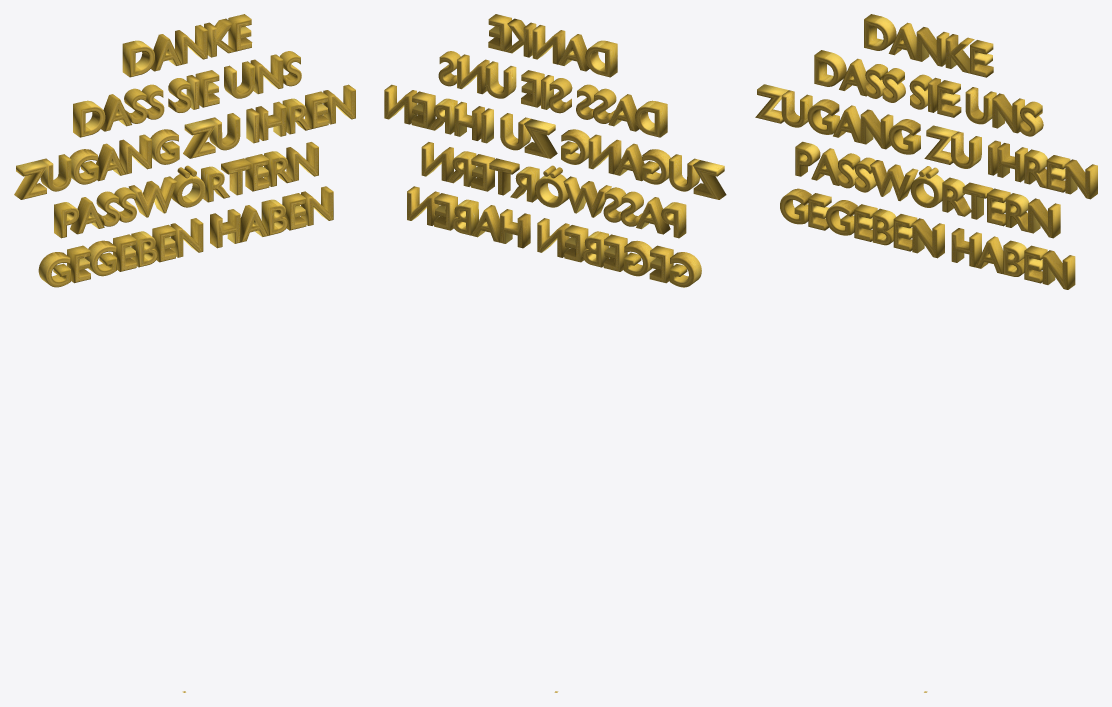
The model's file is try1.glb.
3 renders of one model, left to right at view 1: azimuth 30°, elevation 25°; view 2: azimuth 150°, elevation 25°; view 3: azimuth 330°, elevation 25°, orthographic.
Parts seen in each view (by area): view 1: Plane; view 2: Plane; view 3: Plane.
Part boxes in pixels (bbox=[...]): Plane: bbox=[14, 14, 355, 692]; Plane: bbox=[384, 14, 726, 692]; Plane: bbox=[755, 14, 1097, 692].
Size of the model in its own units: 0.8948 by 1.69 by 0.0374.
Materials: 1 (1 with a texture image).
